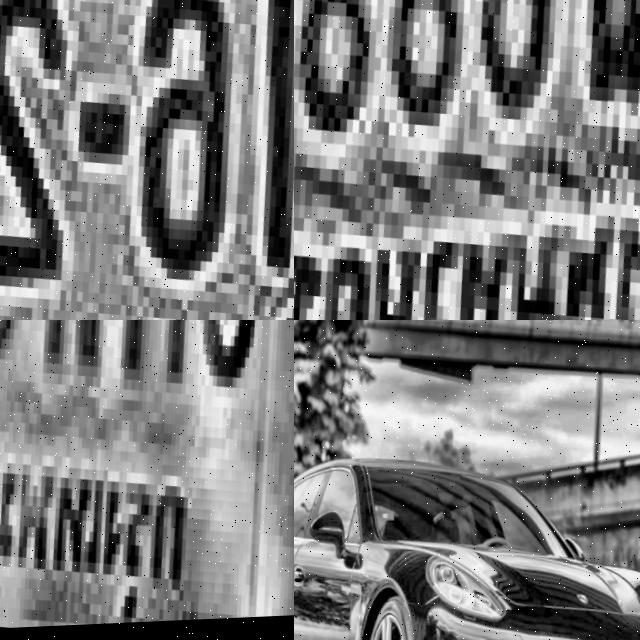license-plate: (294, 0, 640, 320), (0, 0, 294, 320), (0, 320, 294, 640)
